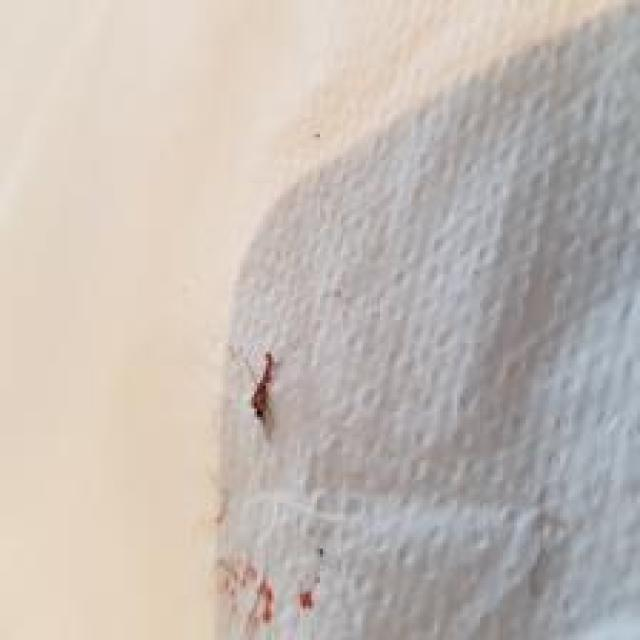Culex: (247, 349, 276, 440)
